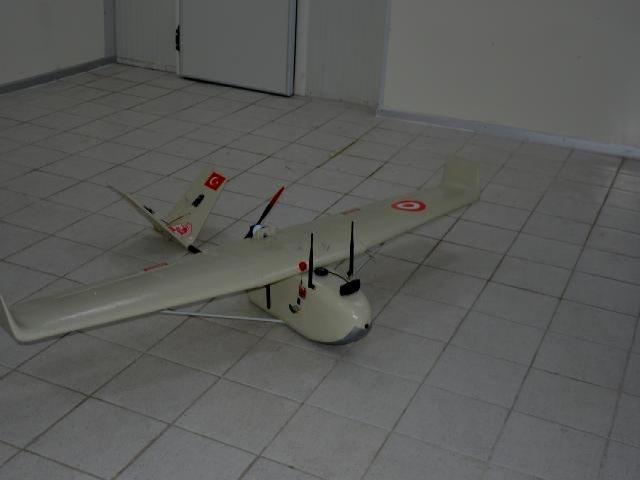iha: (0, 170, 475, 344)
